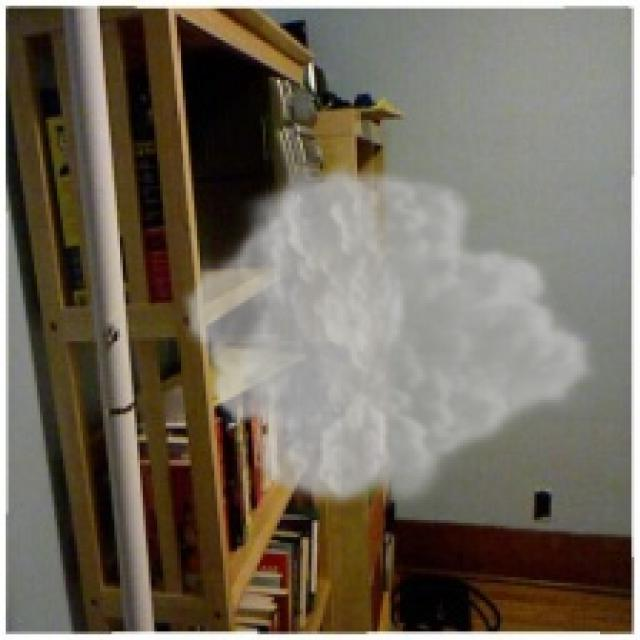Smoke: (180, 157, 600, 514)
